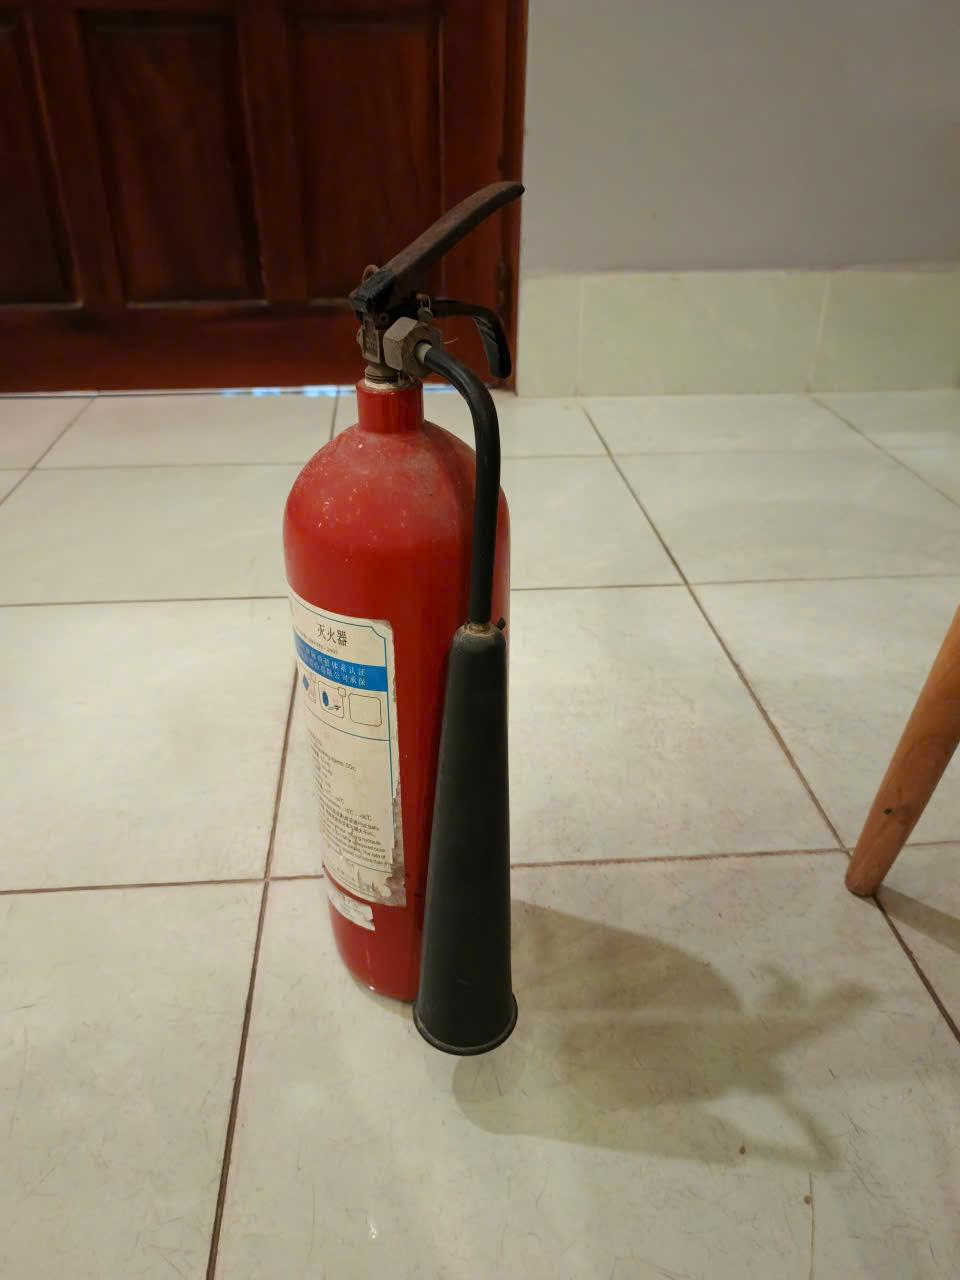Con lai: (282, 175, 522, 1056)
